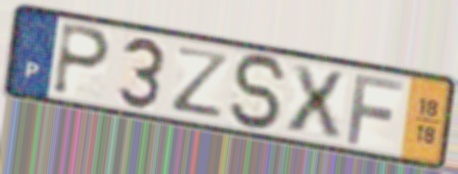3: (113, 35, 167, 112)
F: (344, 70, 407, 147)
P: (50, 20, 113, 99)
S: (228, 51, 291, 133)
X: (284, 61, 347, 141)
Z: (171, 44, 234, 121)
